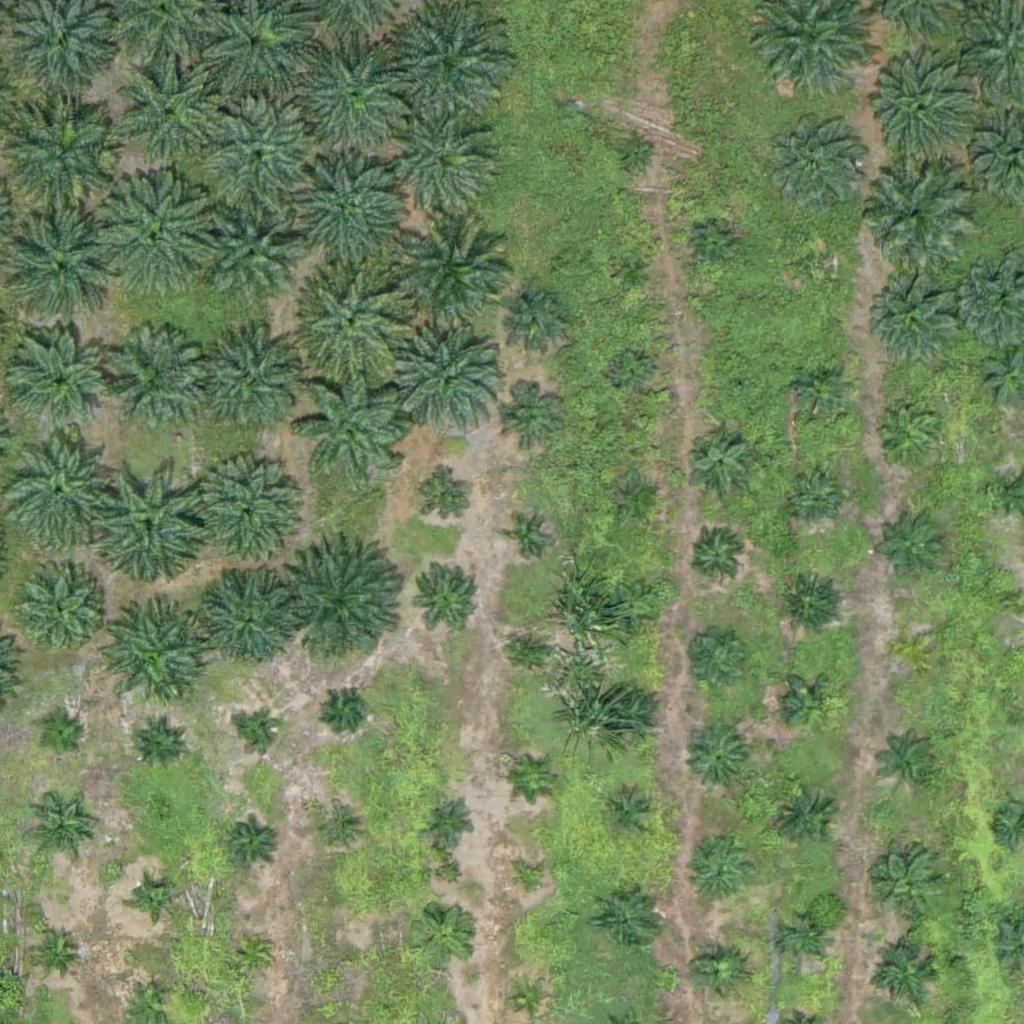Kelapa_Sawit: (1, 91, 126, 217), (196, 103, 321, 229), (283, 154, 408, 280), (291, 40, 416, 166), (384, 2, 509, 128), (395, 222, 520, 348), (89, 461, 214, 587), (96, 174, 221, 299), (285, 542, 410, 667), (855, 156, 968, 269), (297, 369, 410, 482), (186, 455, 299, 568), (862, 52, 974, 165), (394, 329, 506, 442), (298, 264, 410, 377), (95, 605, 207, 718), (121, 65, 221, 166), (395, 117, 495, 218), (765, 112, 865, 213), (196, 566, 296, 667), (202, 331, 302, 432), (101, 330, 201, 431), (11, 333, 111, 434), (10, 560, 110, 661), (206, 213, 293, 302), (874, 280, 961, 368), (677, 622, 752, 698), (409, 558, 484, 633), (686, 843, 749, 906), (27, 803, 90, 866), (599, 886, 662, 949), (600, 686, 663, 749), (496, 385, 559, 448), (506, 287, 569, 350), (880, 515, 943, 578), (779, 570, 842, 633), (789, 360, 852, 423), (685, 727, 747, 790), (775, 787, 837, 850), (875, 944, 937, 1007), (877, 854, 940, 916), (883, 732, 945, 795), (686, 429, 748, 492), (880, 405, 942, 468), (414, 904, 476, 967), (604, 790, 654, 841), (423, 475, 473, 526), (611, 584, 661, 635), (30, 925, 80, 976), (693, 949, 743, 999), (785, 679, 835, 729), (134, 718, 184, 768), (228, 816, 278, 866), (693, 531, 743, 581), (787, 472, 837, 522), (424, 795, 474, 845), (35, 713, 85, 763), (518, 760, 556, 798), (325, 688, 363, 726), (611, 351, 649, 389), (615, 253, 653, 291), (616, 134, 654, 172), (618, 477, 656, 515), (511, 861, 549, 899), (509, 980, 547, 1018), (233, 934, 271, 972), (136, 879, 174, 917), (242, 714, 279, 752), (801, 247, 839, 284), (784, 919, 821, 957), (697, 227, 734, 265), (319, 812, 356, 850), (331, 941, 368, 979), (509, 522, 546, 559), (513, 632, 550, 669), (901, 640, 926, 665), (728, 377, 753, 402)
